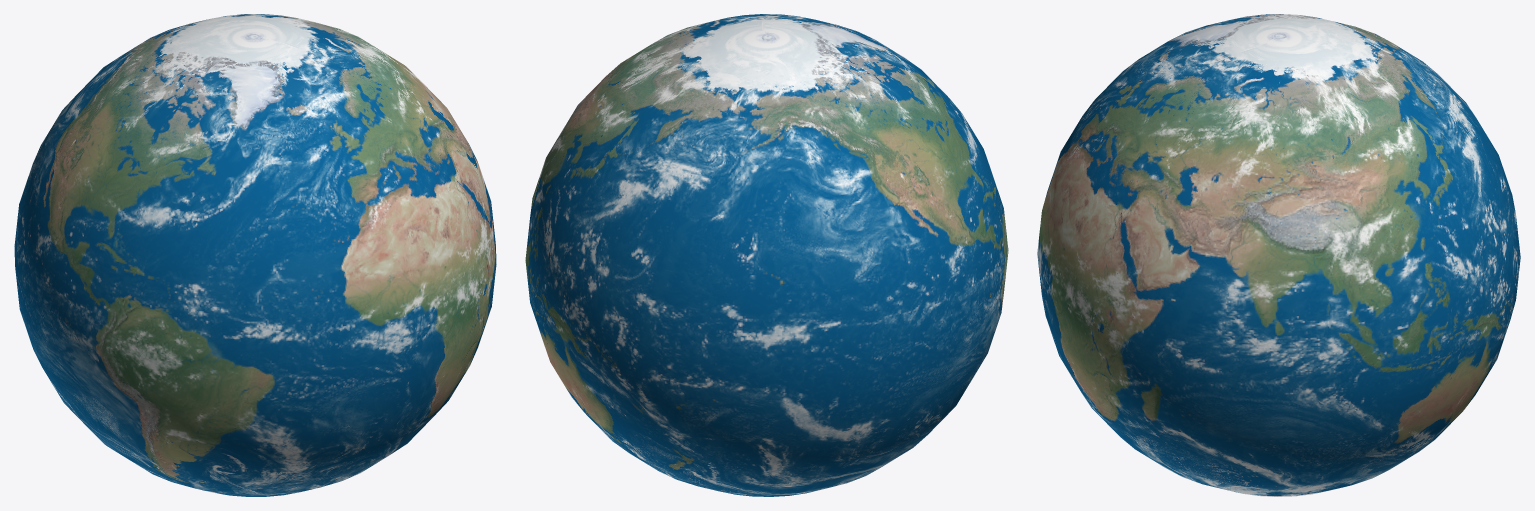
File: ENV2810001.fbx
The picture shows the model from 3 angles, left to right: view 1: azimuth 30°, elevation 25°; view 2: azimuth 150°, elevation 25°; view 3: azimuth 270°, elevation 25°; orthographic projection.
Parts seen in each view (by area): view 1: smENV2810001; view 2: smENV2810001; view 3: smENV2810001.
Part boxes in pixels (left/top/right/bottom): smENV2810001: left=14, top=14, right=496, bottom=496; smENV2810001: left=525, top=14, right=1008, bottom=496; smENV2810001: left=1037, top=14, right=1520, bottom=496.
Size of the model in its own units: 741 by 741 by 741.
Materials: 1 (1 with a texture image).
